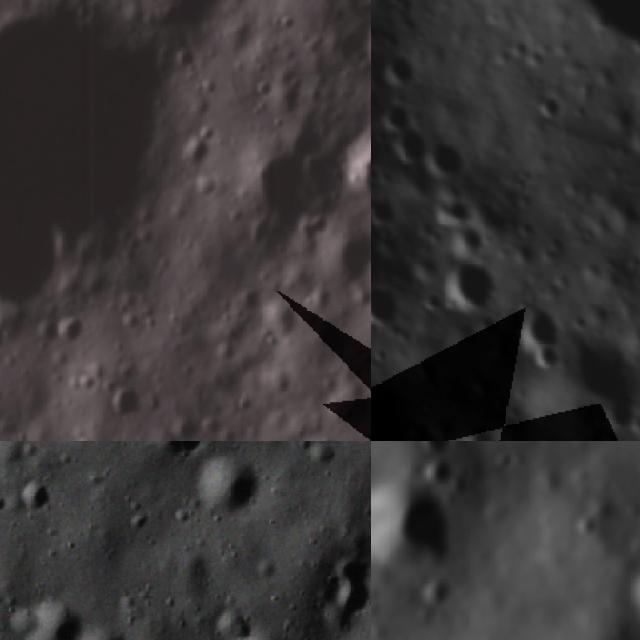crater: (0, 4, 181, 321), (371, 471, 466, 589), (236, 143, 316, 240), (179, 454, 271, 525), (306, 554, 371, 640), (321, 222, 371, 294), (438, 254, 494, 317), (15, 589, 82, 640), (522, 303, 566, 371), (616, 549, 640, 640), (215, 617, 304, 640), (419, 452, 467, 494), (154, 441, 206, 477), (106, 377, 148, 421), (347, 133, 371, 210), (425, 138, 467, 182), (371, 283, 402, 339), (12, 478, 52, 520), (381, 50, 421, 90), (379, 100, 416, 134), (355, 9, 371, 83), (69, 623, 138, 640), (412, 441, 463, 463), (398, 132, 425, 166), (542, 90, 563, 125), (629, 120, 640, 159), (630, 34, 640, 59)
